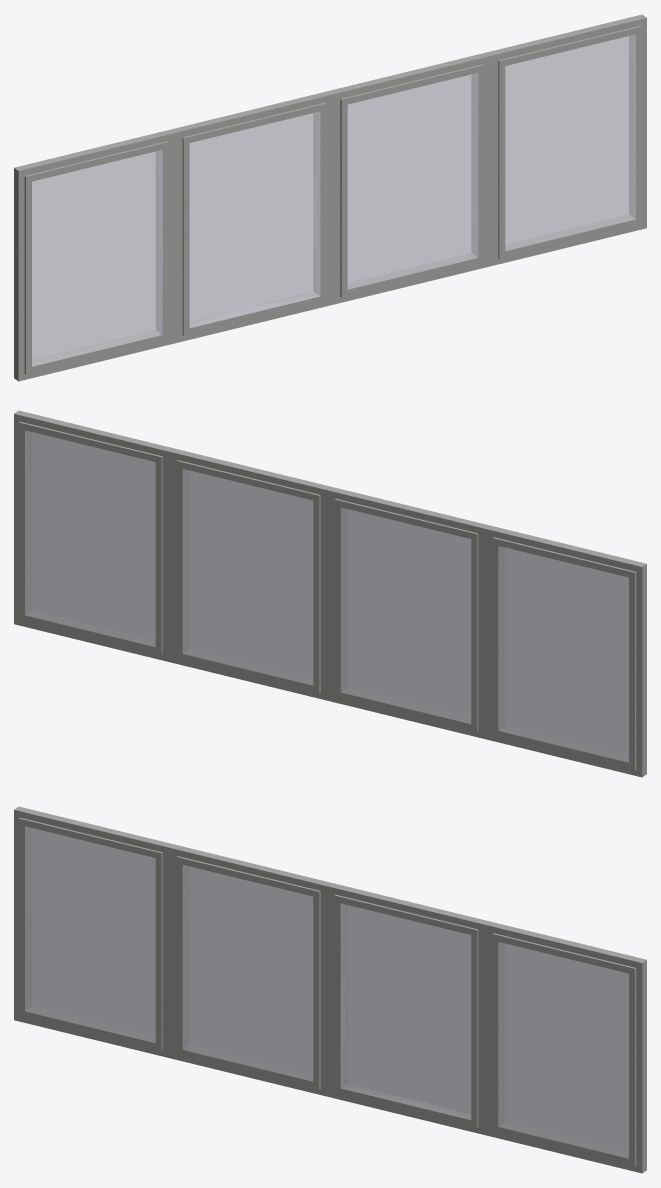
The model's file is windows_4.dae.
The picture shows the model from 3 angles, top to bottom: view 1: azimuth 30°, elevation 25°; view 2: azimuth 150°, elevation 25°; view 3: azimuth 330°, elevation 25°; orthographic projection.
Visible parts, largest first — view 1: sklo_4, okna; view 2: sklo_4, okna; view 3: sklo_4, okna.
Part boxes in pixels (<box>): sklo_4: <box>32,34,635,366</box>; okna: <box>14,14,646,381</box>; sklo_4: <box>25,430,628,762</box>; okna: <box>14,410,646,777</box>; sklo_4: <box>25,826,628,1158</box>; okna: <box>14,806,646,1173</box>.
Size of the model in its own units: 6.25 by 0.12 by 2.
2 materials, 1 textured.
